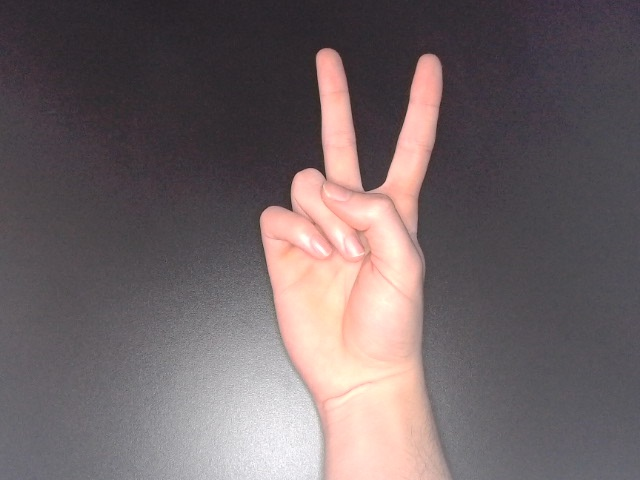v: (254, 44, 449, 431)
